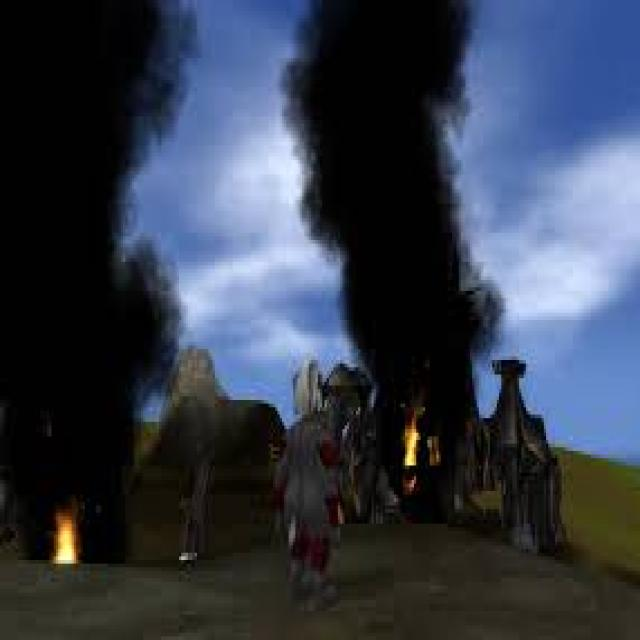Fire: (383, 386, 457, 514), (36, 483, 96, 579)
Smoke: (289, 0, 492, 382), (0, 0, 157, 462)
